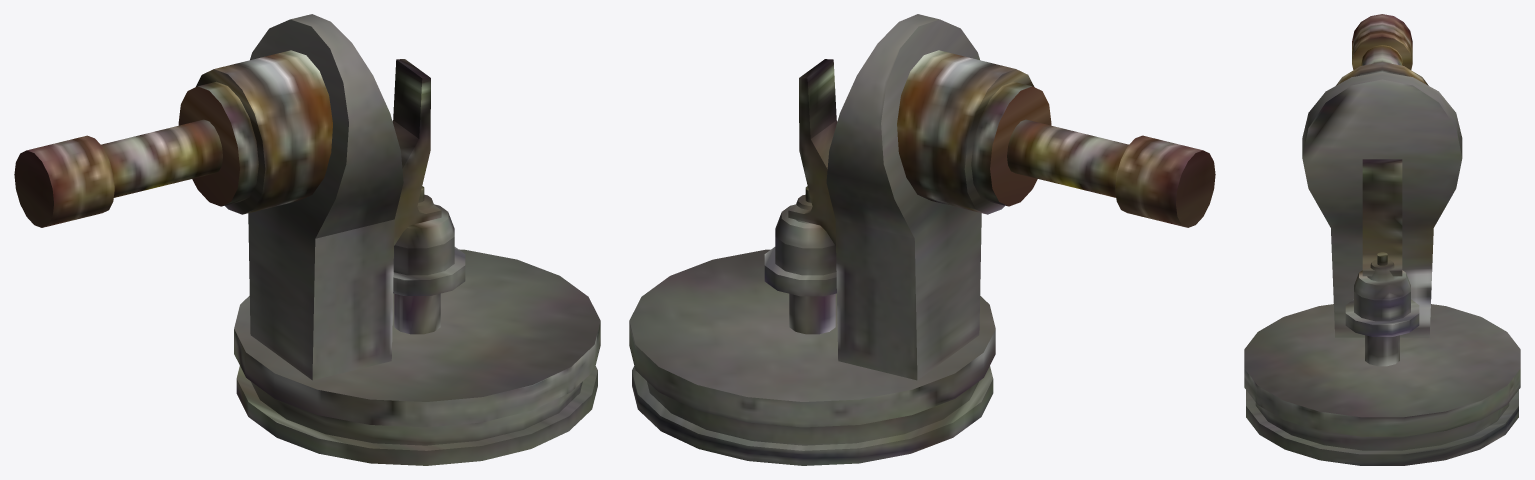
Rendered from hga_gimbal_link.dae.
The picture shows the model from 3 angles, left to right: view 1: azimuth 30°, elevation 25°; view 2: azimuth 150°, elevation 25°; view 3: azimuth 270°, elevation 25°; orthographic projection. The views are drawn at different scales.
Visible parts, largest first — view 1: hga_gimbal_link; view 2: hga_gimbal_link; view 3: hga_gimbal_link.
Boxes of the visible parts, x1=… form: hga_gimbal_link: x1=14, y1=14, x2=600, y2=465; hga_gimbal_link: x1=629, y1=14, x2=1215, y2=465; hga_gimbal_link: x1=1244, y1=14, x2=1520, y2=465.
Bounding box in the file's own units: 0.3115 × 0.181 × 0.2144.
Materials: 1 (1 with a texture image).
